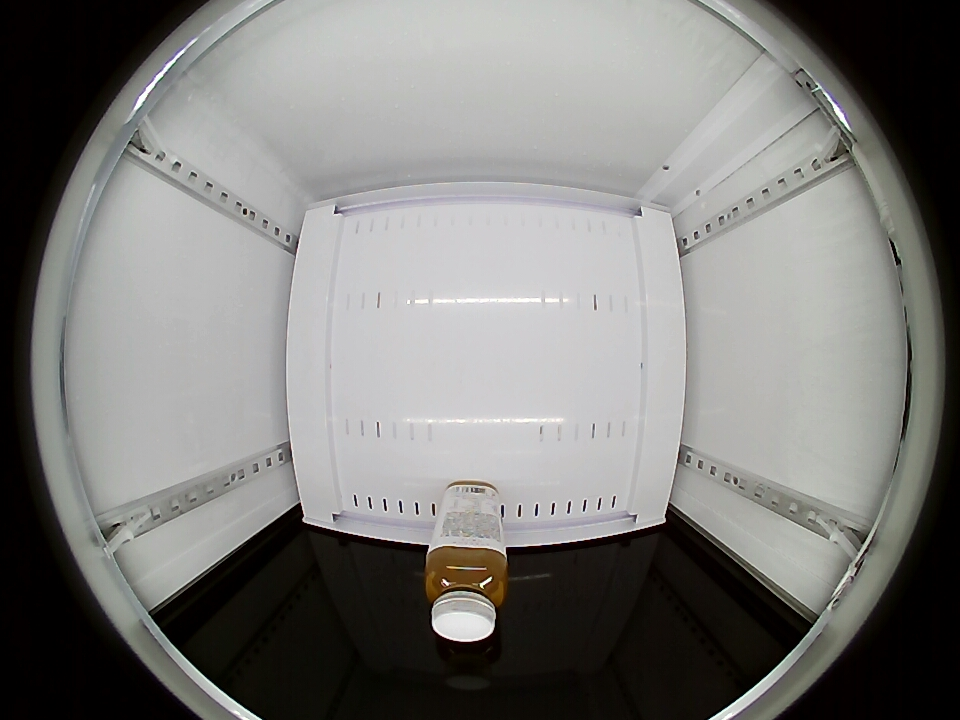chapai: (425, 543, 508, 642)
